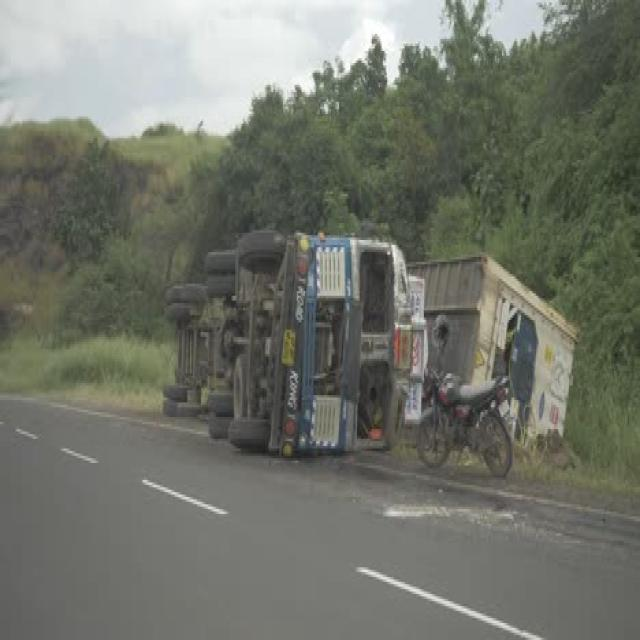accident: (164, 230, 426, 455)
